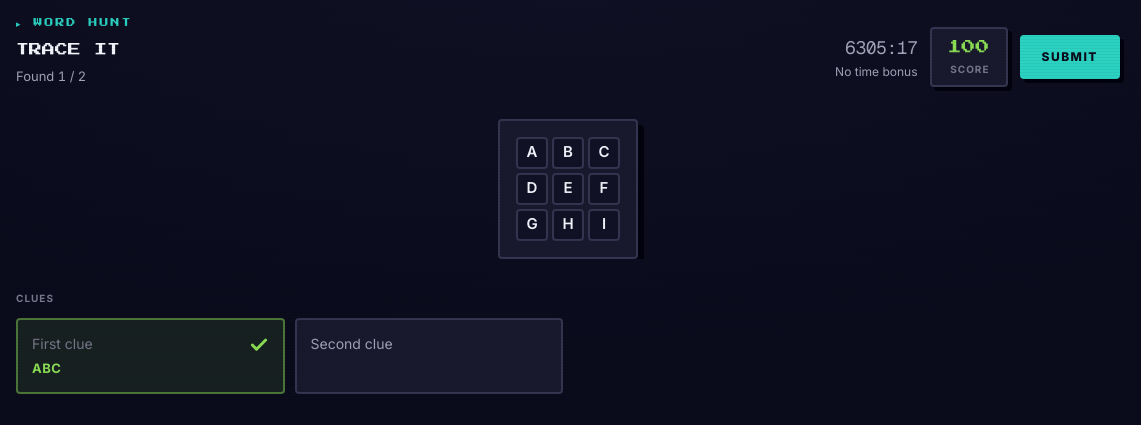
WordHuntClient › transitions to ResultView after submit without reloading
Click the button "Submit" at (1070, 56), box [1020,34,1120,78]
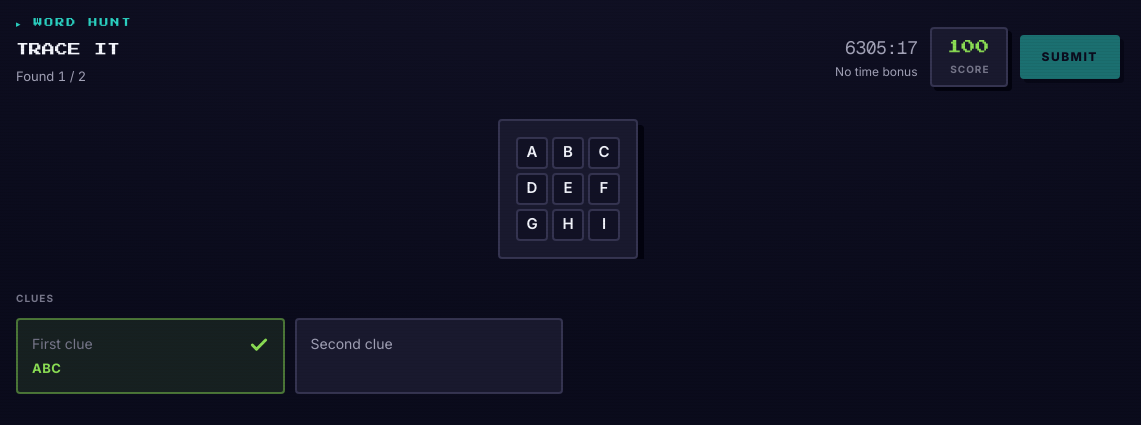
Click the button "Submit" at (1070, 56), box [1020,34,1120,78]
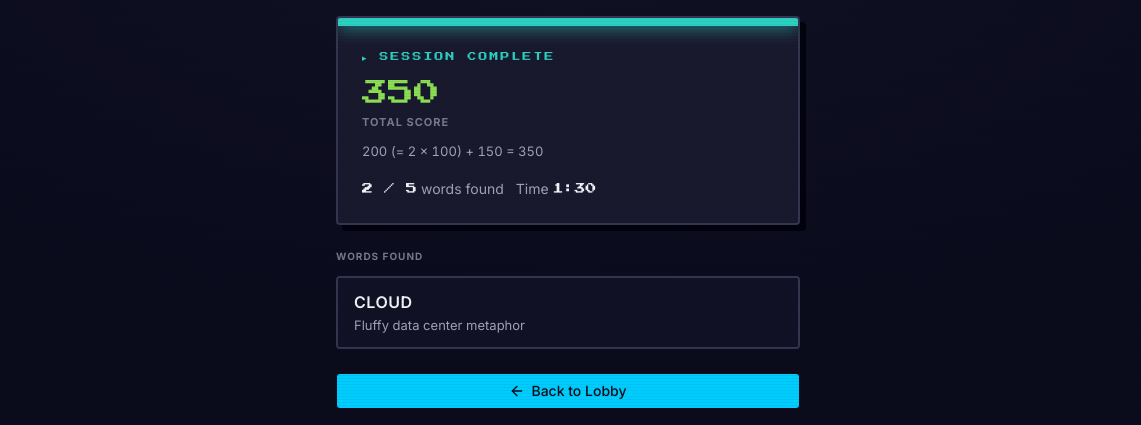
Now the text "350" is shown, box [362,80,440,106]
